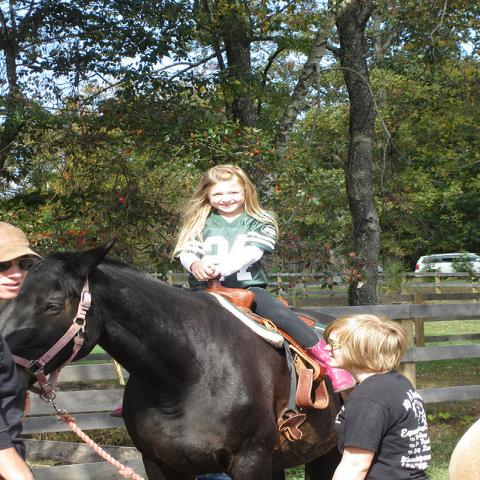car: (413, 252, 479, 280)
